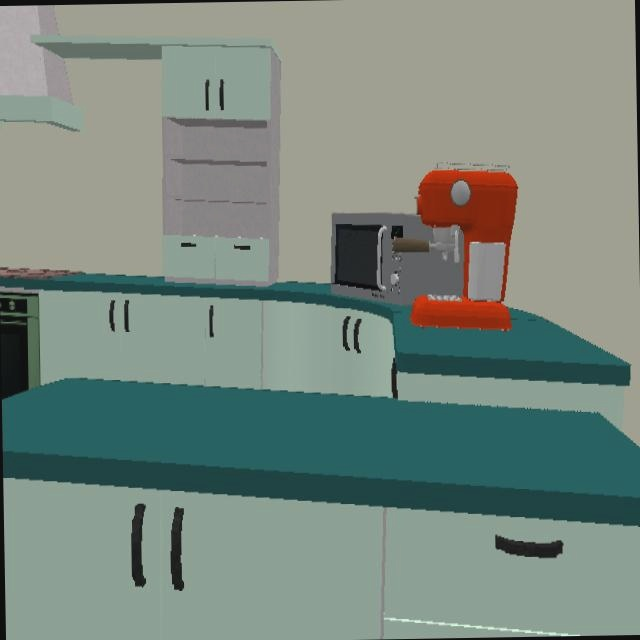cabinet: (3, 478, 640, 640), (30, 34, 282, 288), (38, 291, 395, 396), (397, 372, 624, 431)
countertop: (1, 378, 640, 526), (388, 304, 630, 385), (44, 275, 401, 321), (0, 276, 54, 288)
microwave: (332, 213, 464, 307)
oven: (0, 294, 39, 400)
stove: (0, 259, 71, 280)
